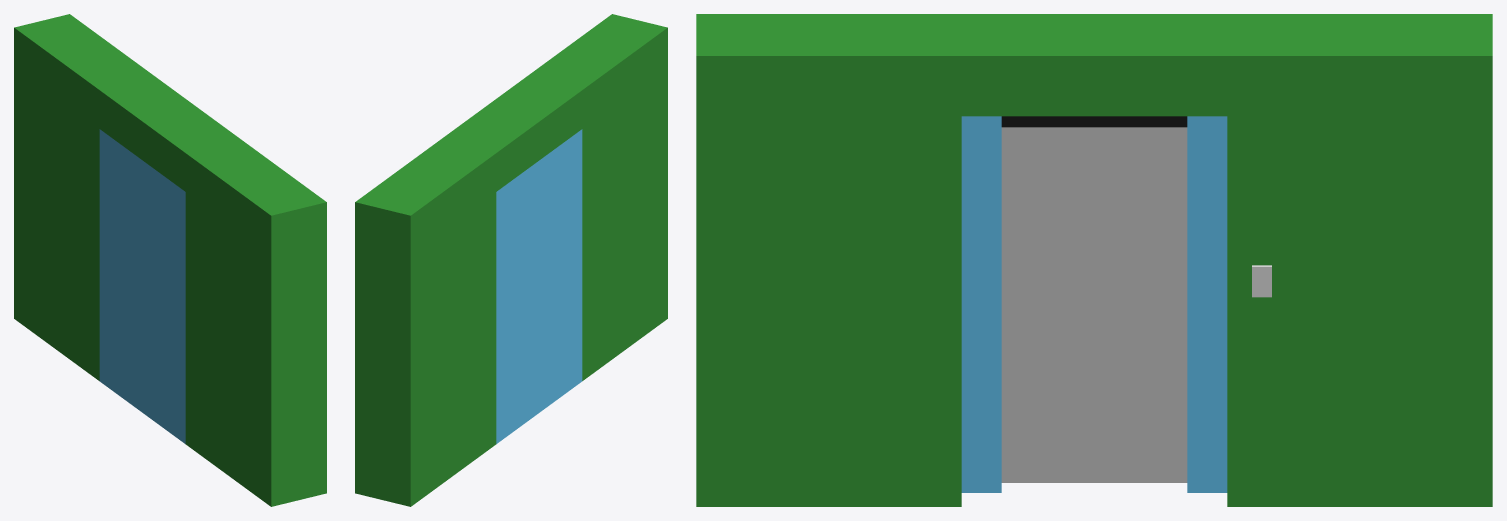
File: 電梯門.FBX
3 views of the same model, side by side, from view 1: azimuth 30°, elevation 25°; view 2: azimuth 150°, elevation 25°; view 3: azimuth 270°, elevation 25° (orthographic). The views are drawn at different scales.
Parts seen in each view (by area): view 1: Box005, Box004, C-Ext001, Box006; view 2: Box004, Box005, C-Ext001, Box006; view 3: Box005, Box004, Box001, Box002, C-Ext001, Box006, Box003.
Part boxes in pixels (x1=…): Box005: x1=185, y1=139, x2=326, y2=506; Box004: x1=14, y1=14, x2=154, y2=380; C-Ext001: x1=99, y1=129, x2=185, y2=443; Box006: x1=99, y1=76, x2=240, y2=191; Box004: x1=355, y1=139, x2=496, y2=506; Box005: x1=527, y1=14, x2=667, y2=380; C-Ext001: x1=496, y1=129, x2=582, y2=443; Box006: x1=441, y1=76, x2=582, y2=191; Box005: x1=696, y1=14, x2=961, y2=506; Box004: x1=1227, y1=14, x2=1492, y2=506; Box001: x1=1094, y1=127, x2=1187, y2=482; Box002: x1=1001, y1=127, x2=1094, y2=482; C-Ext001: x1=961, y1=116, x2=1227, y2=492; Box006: x1=961, y1=14, x2=1227, y2=116; Box003: x1=1001, y1=116, x2=1187, y2=127.
Size of the model in its own units: 15.64 by 75 by 120.
